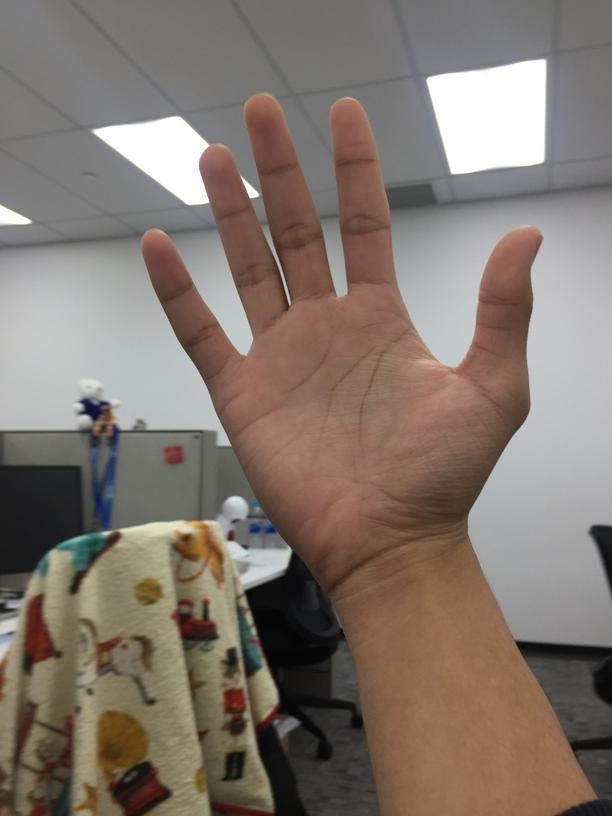hand: (140, 85, 542, 557)
